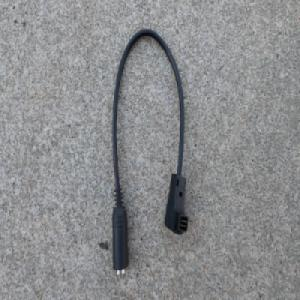Wire: (110, 25, 189, 277)
